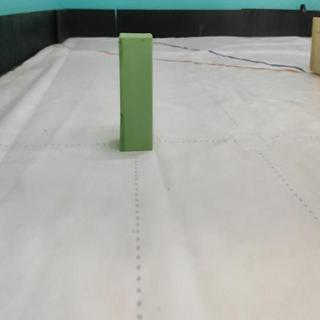greenbox: (117, 30, 156, 153)
